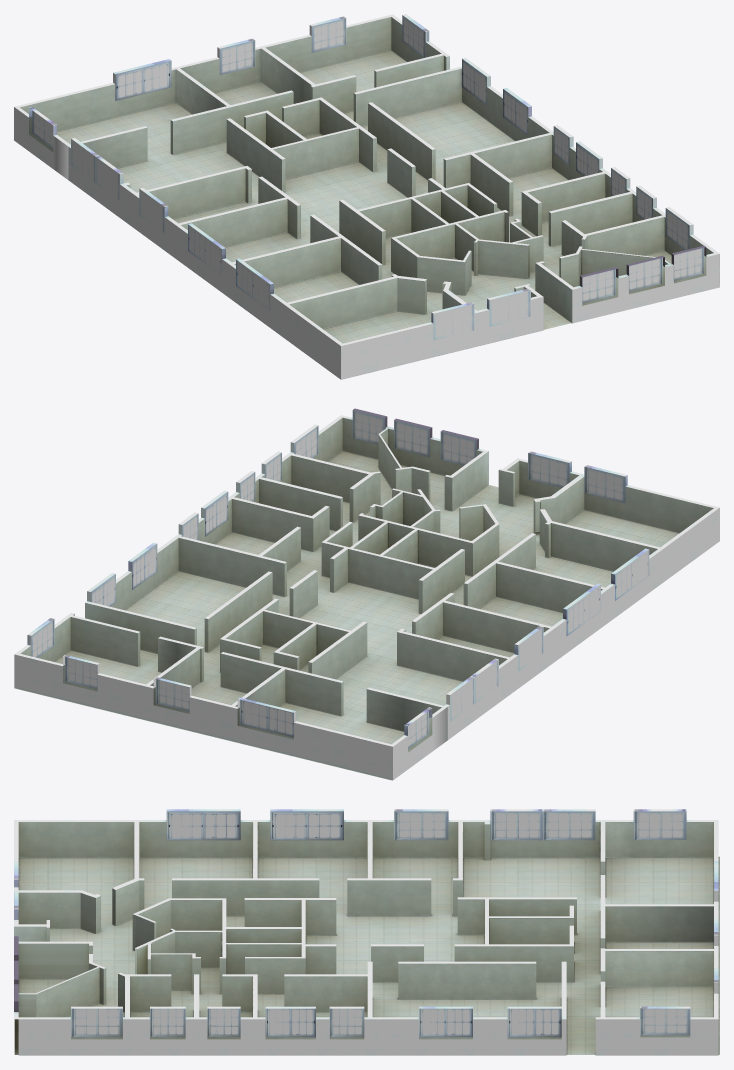
File: Paredes-piso.FBX
3 renders of one model, top to bottom at view 1: azimuth 30°, elevation 25°; view 2: azimuth 150°, elevation 25°; view 3: azimuth 270°, elevation 25°, orthographic. The views are drawn at different scales.
Parts seen in each view (by area): view 1: Paredes LEFT, Paredes RIGHT, Piso, Paredes BACK, Paredes INT; view 2: Paredes LEFT, Paredes RIGHT, Paredes BACK, Piso, Paredes INT; view 3: Piso, Paredes RIGHT, Paredes LEFT, Paredes INT, Paredes BACK.
Part boxes in pixels (x1=…): Paredes LEFT: x1=68, y1=137, x2=543, y2=379; Paredes RIGHT: x1=353, y1=57, x2=719, y2=323; Piso: x1=57, y1=50, x2=671, y2=343; Paredes BACK: x1=14, y1=14, x2=449, y2=179; Paredes INT: x1=226, y1=97, x2=543, y2=295; Paredes LEFT: x1=397, y1=451, x2=719, y2=739; Paredes RIGHT: x1=85, y1=408, x2=488, y2=653; Paredes BACK: x1=14, y1=612, x2=447, y2=780; Piso: x1=14, y1=451, x2=679, y2=780; Paredes INT: x1=220, y1=488, x2=499, y2=679; Piso: x1=14, y1=856, x2=719, y2=1054; Paredes RIGHT: x1=14, y1=936, x2=566, y2=1055; Paredes LEFT: x1=14, y1=809, x2=600, y2=941; Paredes INT: x1=132, y1=897, x2=576, y2=994; Paredes BACK: x1=595, y1=809, x2=718, y2=1055.
Bounding box in the file's own units: 20 × 2.2 × 29.96.
Materials: 5 (5 with a texture image).
